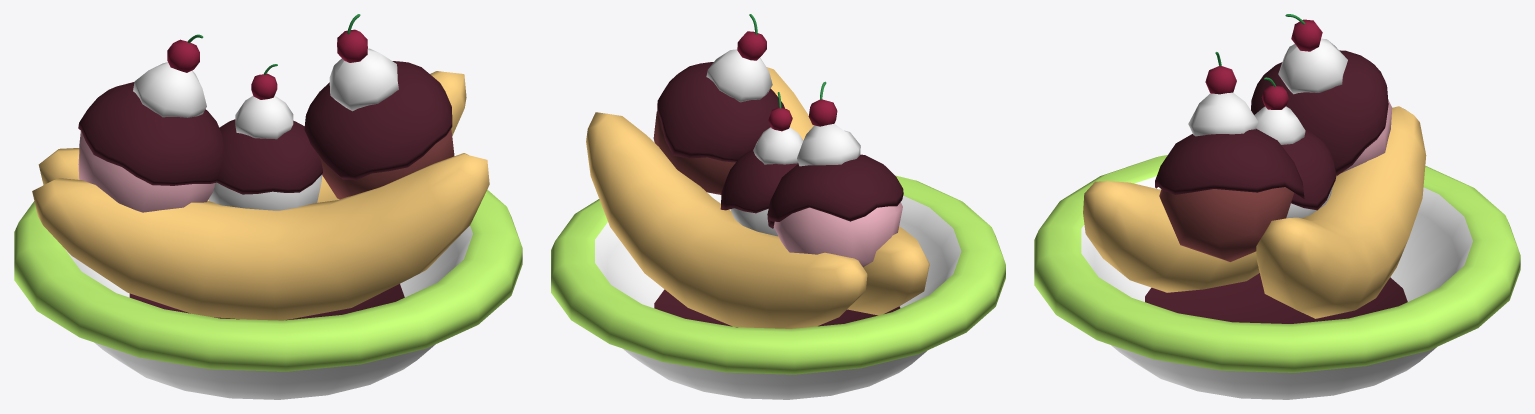
The model's file is Banana_Split_w_Plate_Food.glb.
3 renders of one model, left to right at view 1: azimuth 30°, elevation 25°; view 2: azimuth 150°, elevation 25°; view 3: azimuth 270°, elevation 25°, orthographic. The views are drawn at different scales.
Parts seen in each view (by area): view 1: Banana_Split_w_Plate_Food; view 2: Banana_Split_w_Plate_Food; view 3: Banana_Split_w_Plate_Food.
Boxes of the visible parts, x1,y1,x2,y2 form: Banana_Split_w_Plate_Food: [14, 14, 522, 399]; Banana_Split_w_Plate_Food: [551, 14, 1005, 399]; Banana_Split_w_Plate_Food: [1034, 14, 1520, 399].
Size of the model in its own units: 0.1193 by 0.0856 by 0.119.
Materials: 1 (1 with a texture image).
